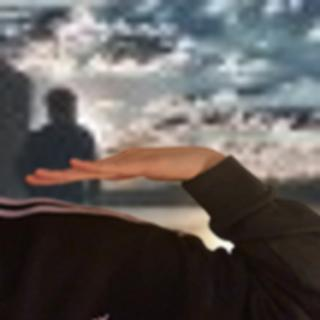Wait: (21, 136, 226, 193)
